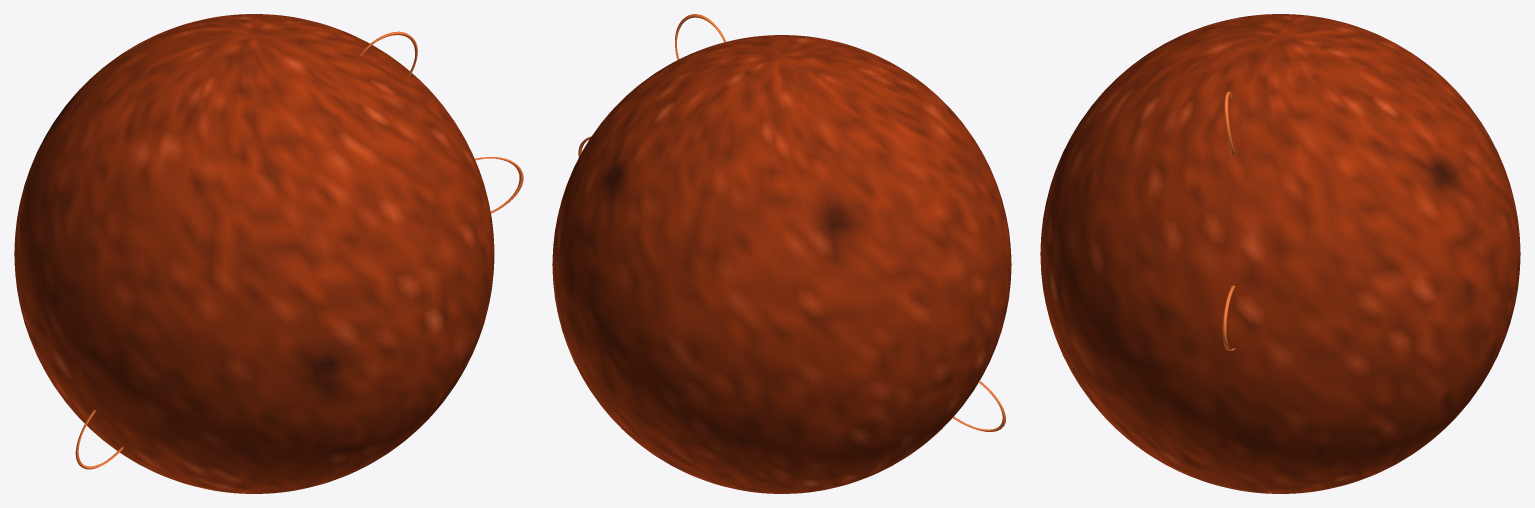
Rendered from Star_29.fbx.
3 renders of one model, left to right at view 1: azimuth 30°, elevation 25°; view 2: azimuth 150°, elevation 25°; view 3: azimuth 270°, elevation 25°, orthographic. The views are drawn at different scales.
Visible parts, largest first — view 1: Star_29; view 2: Star_29; view 3: Star_29.
Part boxes in pixels (left/top/right/bottom): Star_29: left=14, top=14, right=523, bottom=493; Star_29: left=552, top=14, right=1011, bottom=493; Star_29: left=1040, top=14, right=1520, bottom=493.
Bounding box in the file's own units: 216 × 200 × 200.
